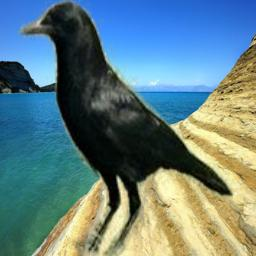Crow: (18, 0, 233, 256)
